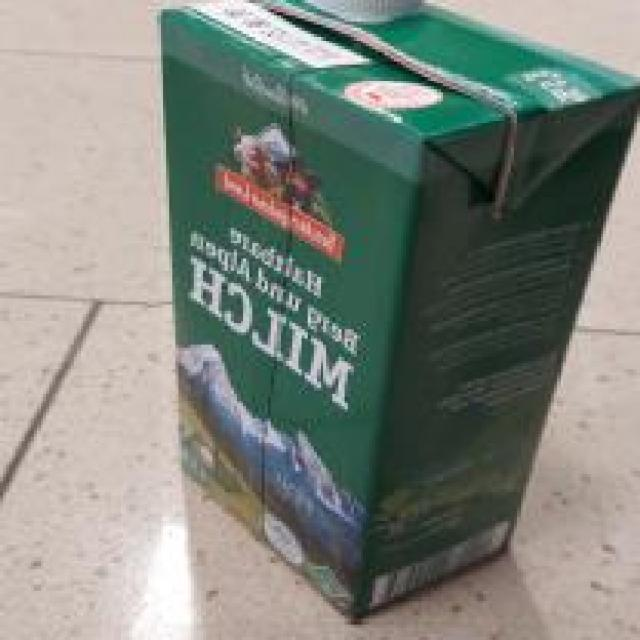milk: (157, 0, 640, 625)
